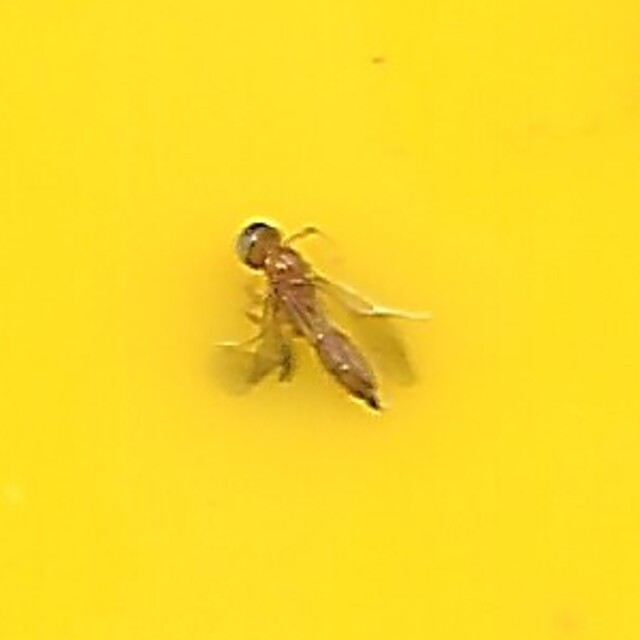Hymenoptera: (213, 218, 427, 422)
